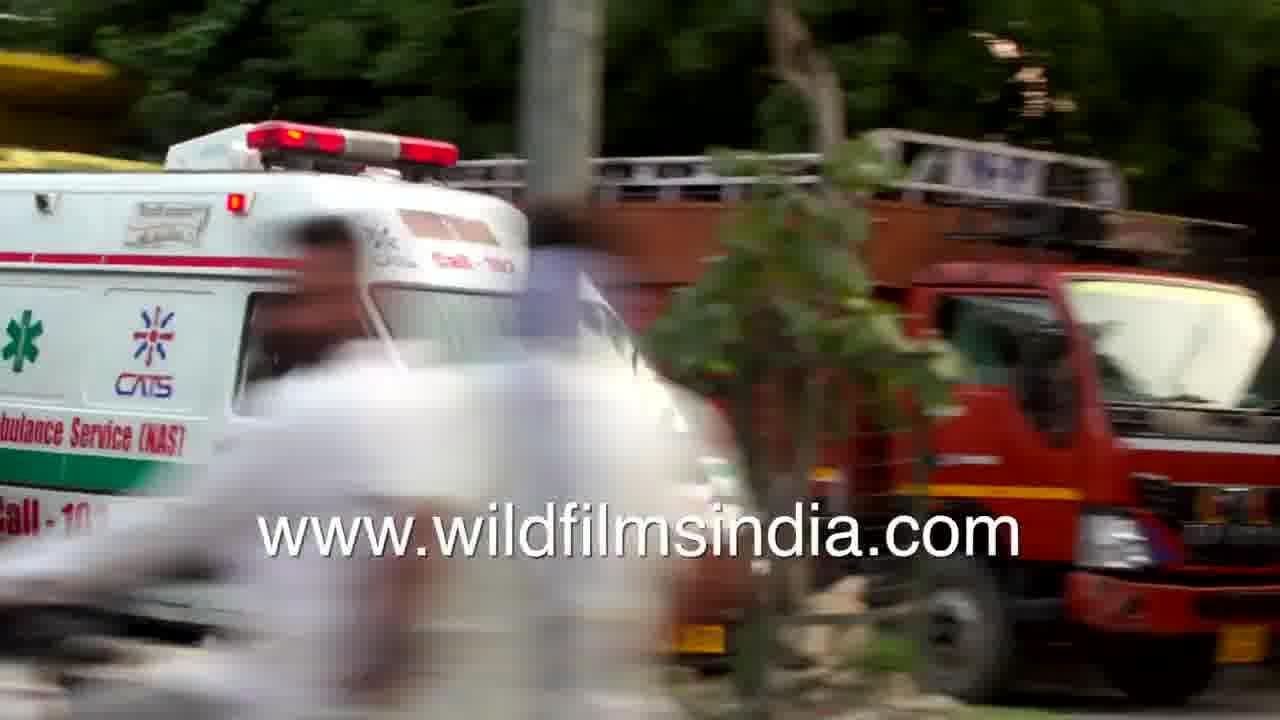AMBULANCE: (0, 101, 576, 250), (13, 271, 247, 498)
